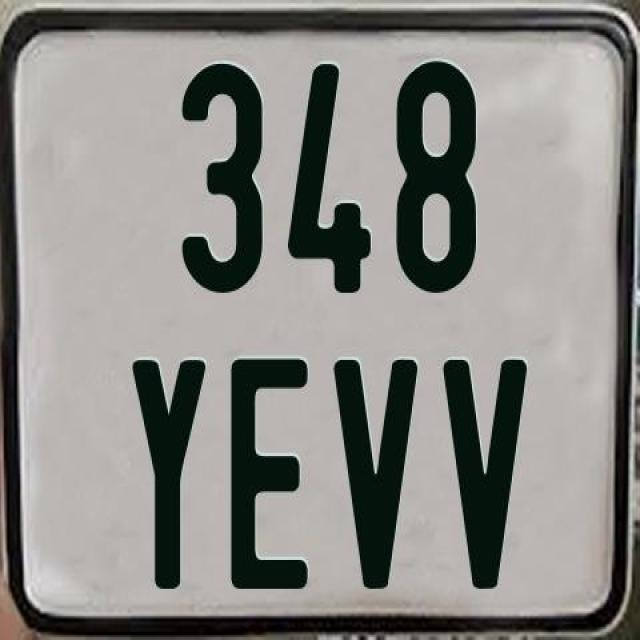3: (181, 64, 264, 299)
4: (287, 62, 377, 301)
8: (392, 59, 475, 294)
E: (226, 358, 312, 594)
V: (438, 358, 528, 592), (332, 358, 416, 588)
Y: (129, 360, 207, 592)
